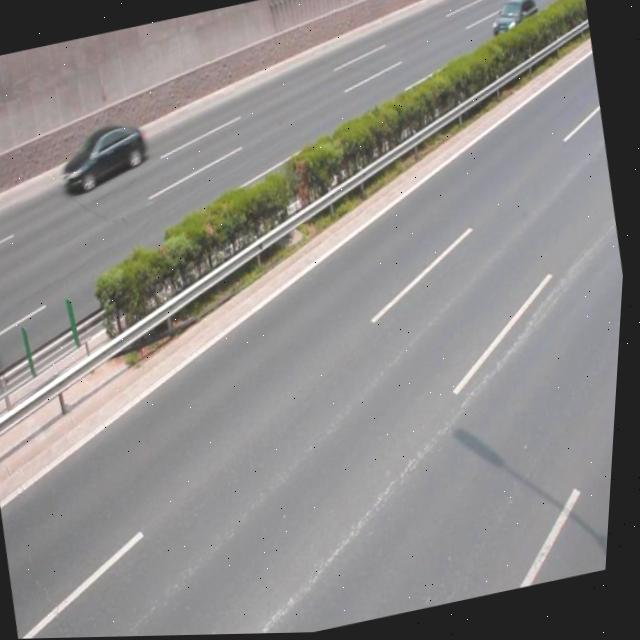car: (57, 120, 157, 199), (486, 0, 542, 52)
truck: (0, 272, 9, 392)
